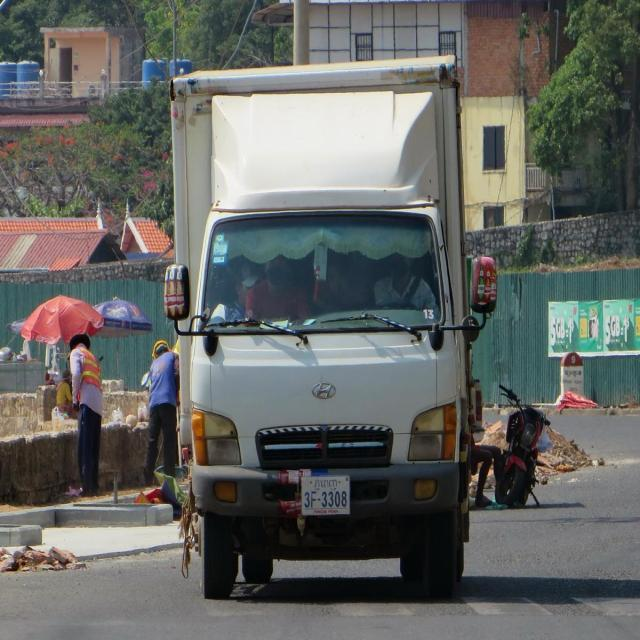Phnom_Penh: (314, 477, 339, 492)
